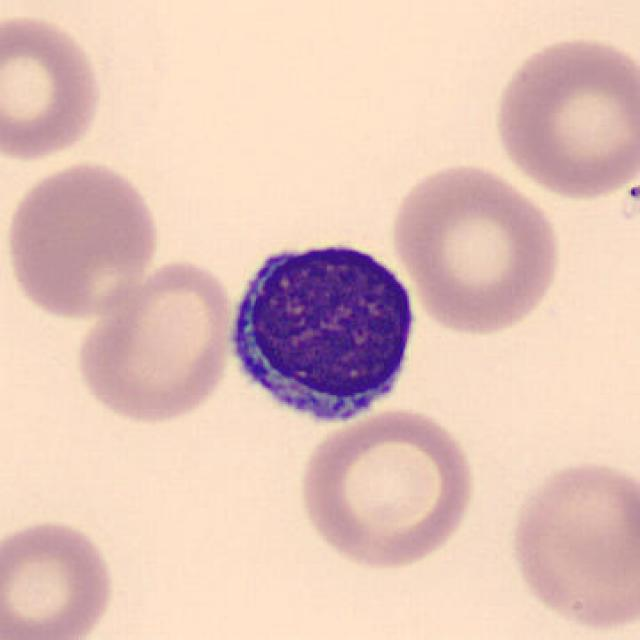Lymphocyte: (215, 222, 425, 436)
RBC: (386, 158, 565, 338), (293, 404, 480, 573), (73, 256, 238, 427), (0, 157, 164, 321), (489, 30, 638, 203), (502, 453, 638, 637), (0, 9, 107, 166), (0, 515, 119, 640)
